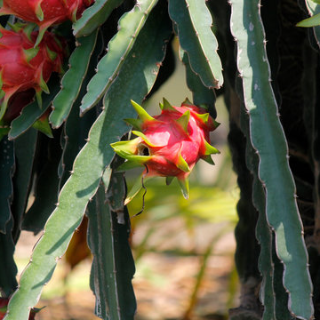thanh_long: (116, 99, 219, 188)
